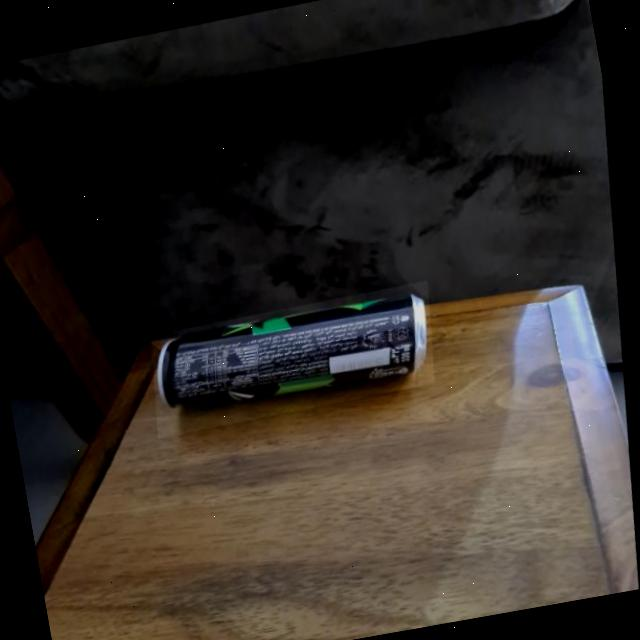trash: (142, 276, 444, 432)
